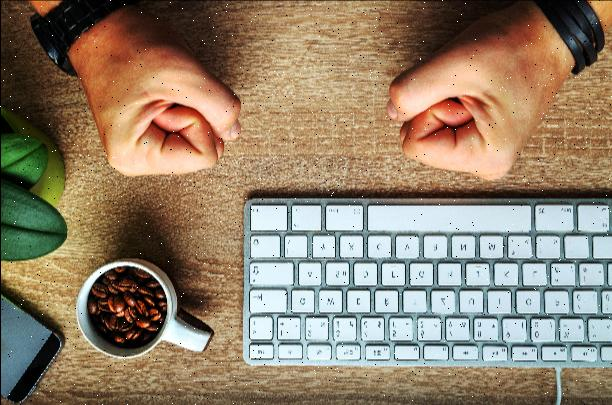Rock: (382, 9, 546, 184), (77, 22, 242, 180)
